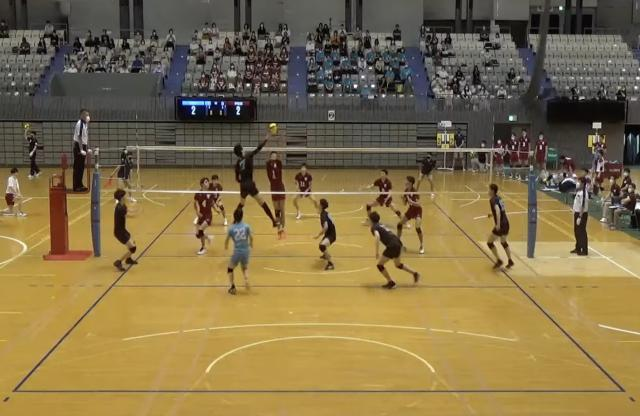spike: (233, 120, 284, 231)
